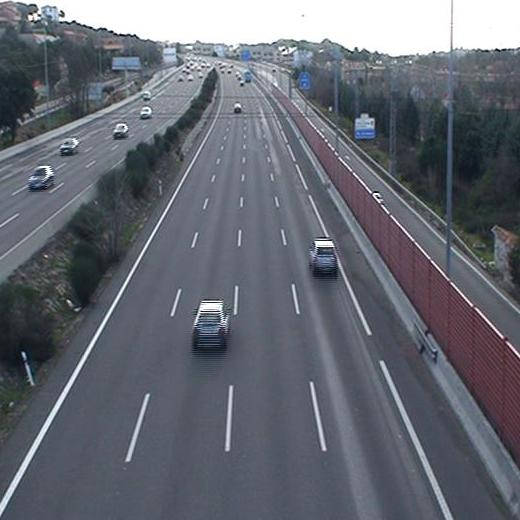car: (189, 298, 233, 350), (307, 237, 339, 275), (232, 100, 244, 115)
